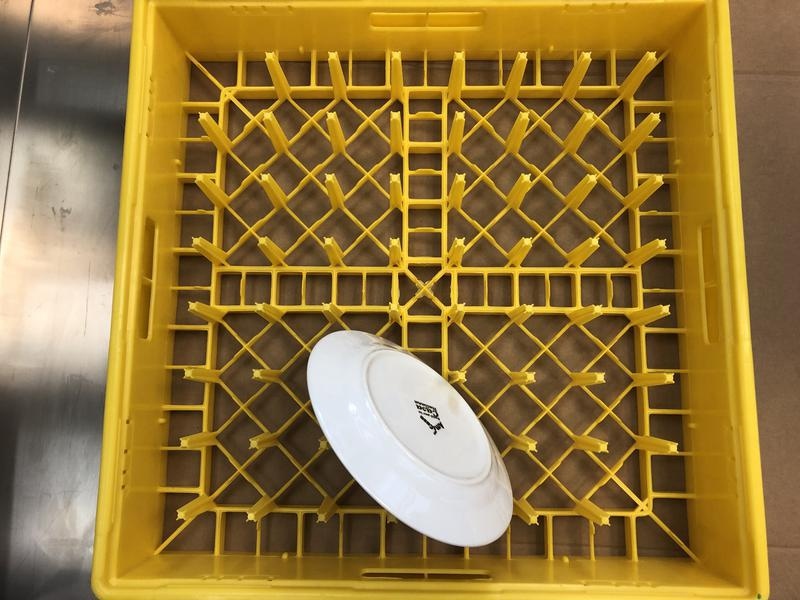Inclined_dish: (307, 328, 514, 546)
